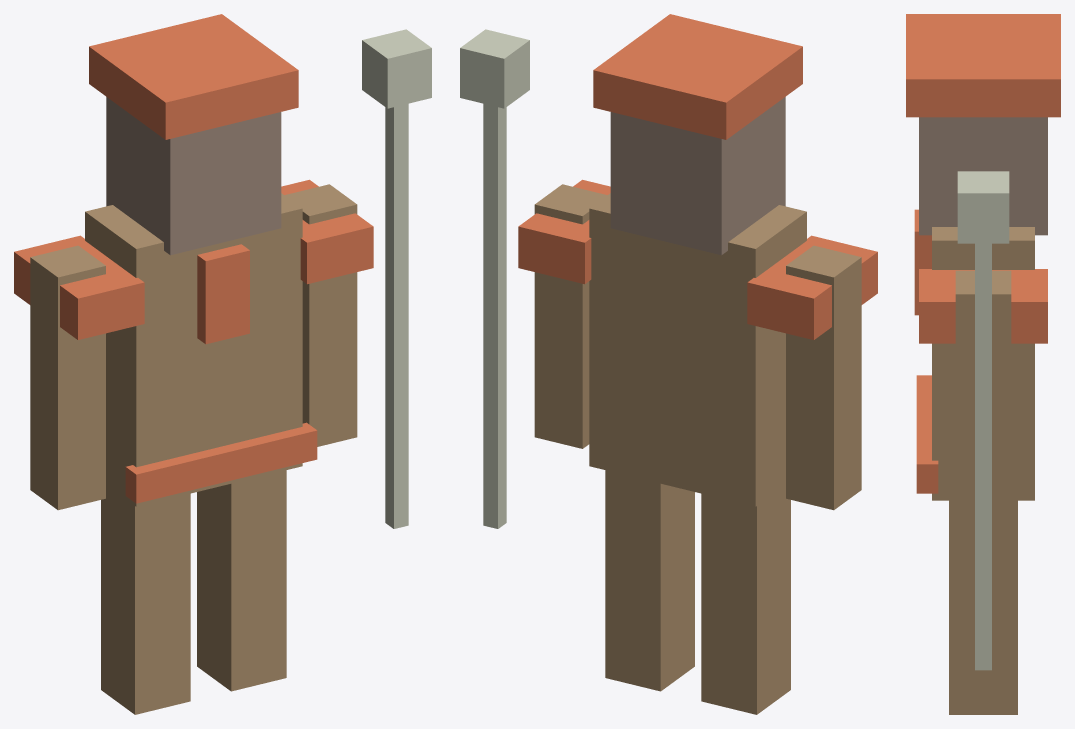
Rendered from 19_pax_spirebound_tactician_of_choir.glb.
3 renders of one model, left to right at view 1: azimuth 30°, elevation 25°; view 2: azimuth 150°, elevation 25°; view 3: azimuth 270°, elevation 25°, orthographic.
Visible parts, largest first — view 1: Pax Spirebound, Tactician of Choir; view 2: Pax Spirebound, Tactician of Choir; view 3: Pax Spirebound, Tactician of Choir.
Boxes of the visible parts, left/top/right/bottom form: Pax Spirebound, Tactician of Choir: left=14, top=14, right=431, bottom=714; Pax Spirebound, Tactician of Choir: left=460, top=14, right=877, bottom=714; Pax Spirebound, Tactician of Choir: left=906, top=14, right=1060, bottom=714.
Size of the model in its own units: 0.9729 by 1.55 by 0.3451.
